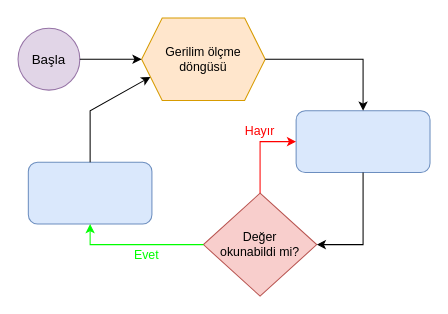
Some shapes in this 448 by 314 pixel diagram are drawn without their labels. The shapes that lost their labels are listed below. From the top down, each one's box as (x1, y1, x2, y2) in pixels, then its label:
(295, 110, 430, 173): Seçilen analog pindeki değeri oku
(27, 161, 152, 224): Belirtilen formüle göre pil gerilimini ölç
